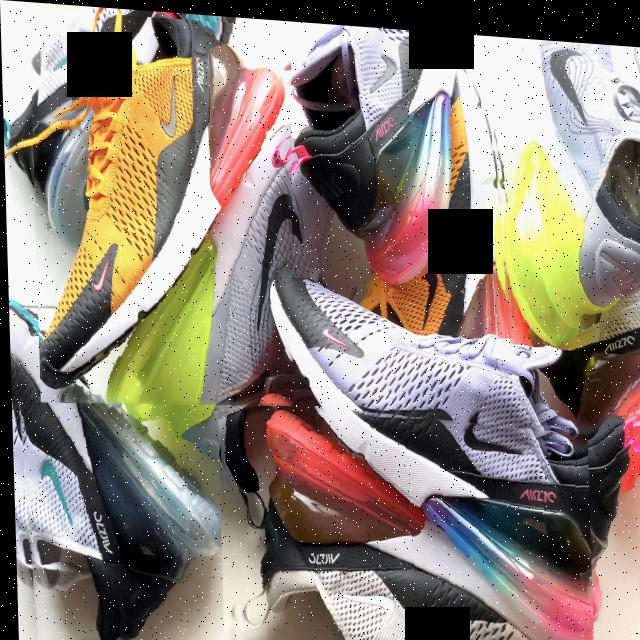shoe: (266, 259, 637, 640), (29, 8, 300, 418), (88, 108, 346, 536), (214, 393, 591, 640), (6, 270, 221, 640), (283, 16, 464, 287), (487, 28, 640, 346)
